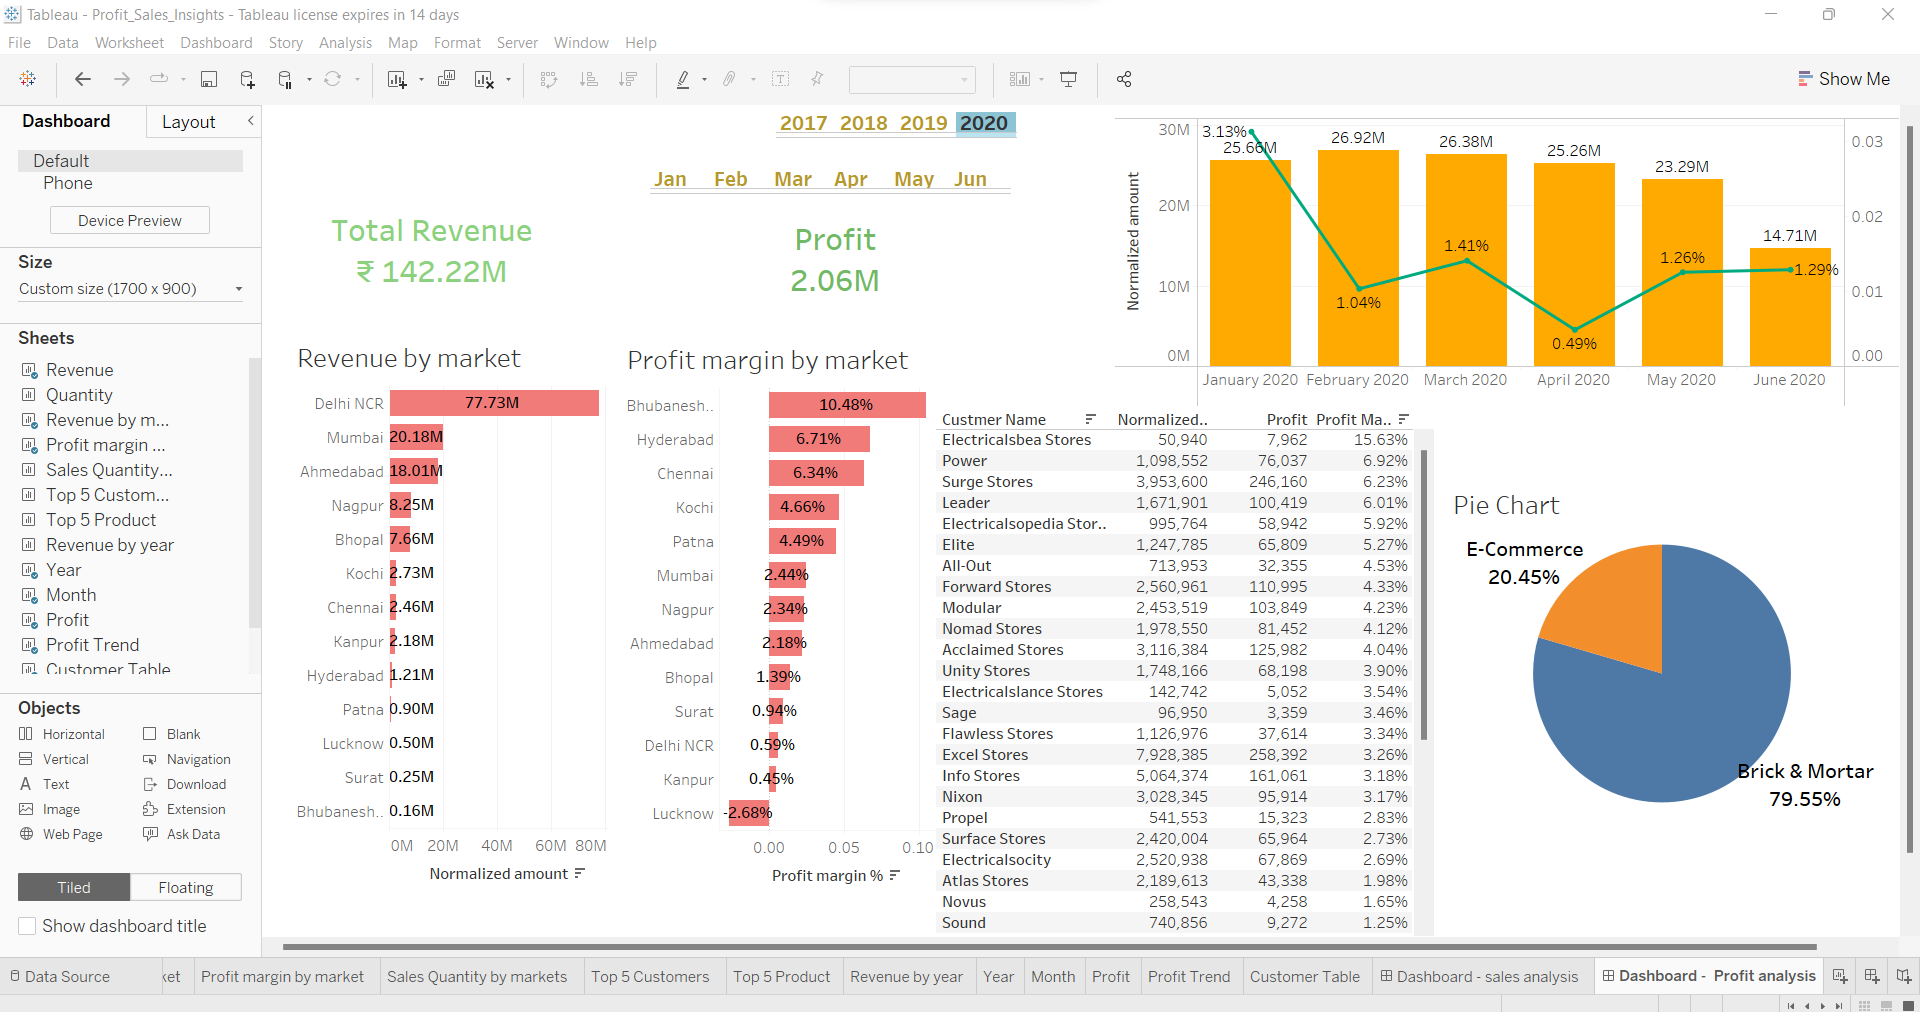

Layout of this report page (visuals, bound fields, positions):
{"tool":"tableau","page":{"name":"Dashboard -  Profit analysis","canvas":[1700,900],"ordinal":0},"visuals":[{"type":"worksheet","title":"Year","mark":"Automatic","cols":["cy_date"],"box":[514.2,7,360.2,52]},{"type":"worksheet","title":"Profit Trend","mark":"Bar","rows":["Calculation_383931933261869056","Calculation_383931933294288898"],"cols":["cy_date"],"box":[853.2,13,811.8,289]},{"type":"worksheet","title":"Month","mark":"Automatic","cols":["cy_date"],"box":[387.8,63,938.2,39]},{"type":"worksheet","title":"Revenue","mark":"Automatic","box":[60.1,104,283.3,113]},{"type":"worksheet","title":"Profit","mark":"Automatic","box":[523.8,113,285.8,107]},{"type":"worksheet","title":"Revenue by market","mark":"Automatic","rows":["markets_name"],"cols":["Calculation_383931933261869056"],"box":[30.8,231,315.6,609]},{"type":"worksheet","title":"Profit margin by market","mark":"Automatic","rows":["markets_name"],"cols":["Calculation_383931933294288898"],"box":[361,233,313,584]},{"type":"worksheet","title":"Customer Table","mark":"Automatic","rows":["custmer_name"],"box":[674,304,533,530]},{"type":"worksheet","title":"Pie Chart","mark":"Pie","box":[1187,378,426,331]}]}

Visuals, with their boxes on the page's 1700x900 design canvas (x1, y1, x2, y2). These are canvas units, not pixel positions in the 1920x1012 screenshot, which may show the page scaled, cropped or inside an application window:
"Year" worksheet: (left=514, top=7, right=874, bottom=59)
"Profit Trend" worksheet (Bar marks): (left=853, top=13, right=1665, bottom=302)
"Month" worksheet: (left=388, top=63, right=1326, bottom=102)
"Revenue" worksheet: (left=60, top=104, right=343, bottom=217)
"Profit" worksheet: (left=524, top=113, right=810, bottom=220)
"Revenue by market" worksheet: (left=31, top=231, right=346, bottom=840)
"Profit margin by market" worksheet: (left=361, top=233, right=674, bottom=817)
"Customer Table" worksheet: (left=674, top=304, right=1207, bottom=834)
"Pie Chart" worksheet (Pie marks): (left=1187, top=378, right=1613, bottom=709)
